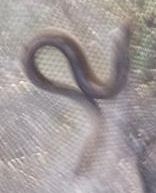Anguilla anguilla: (20, 20, 136, 173)
